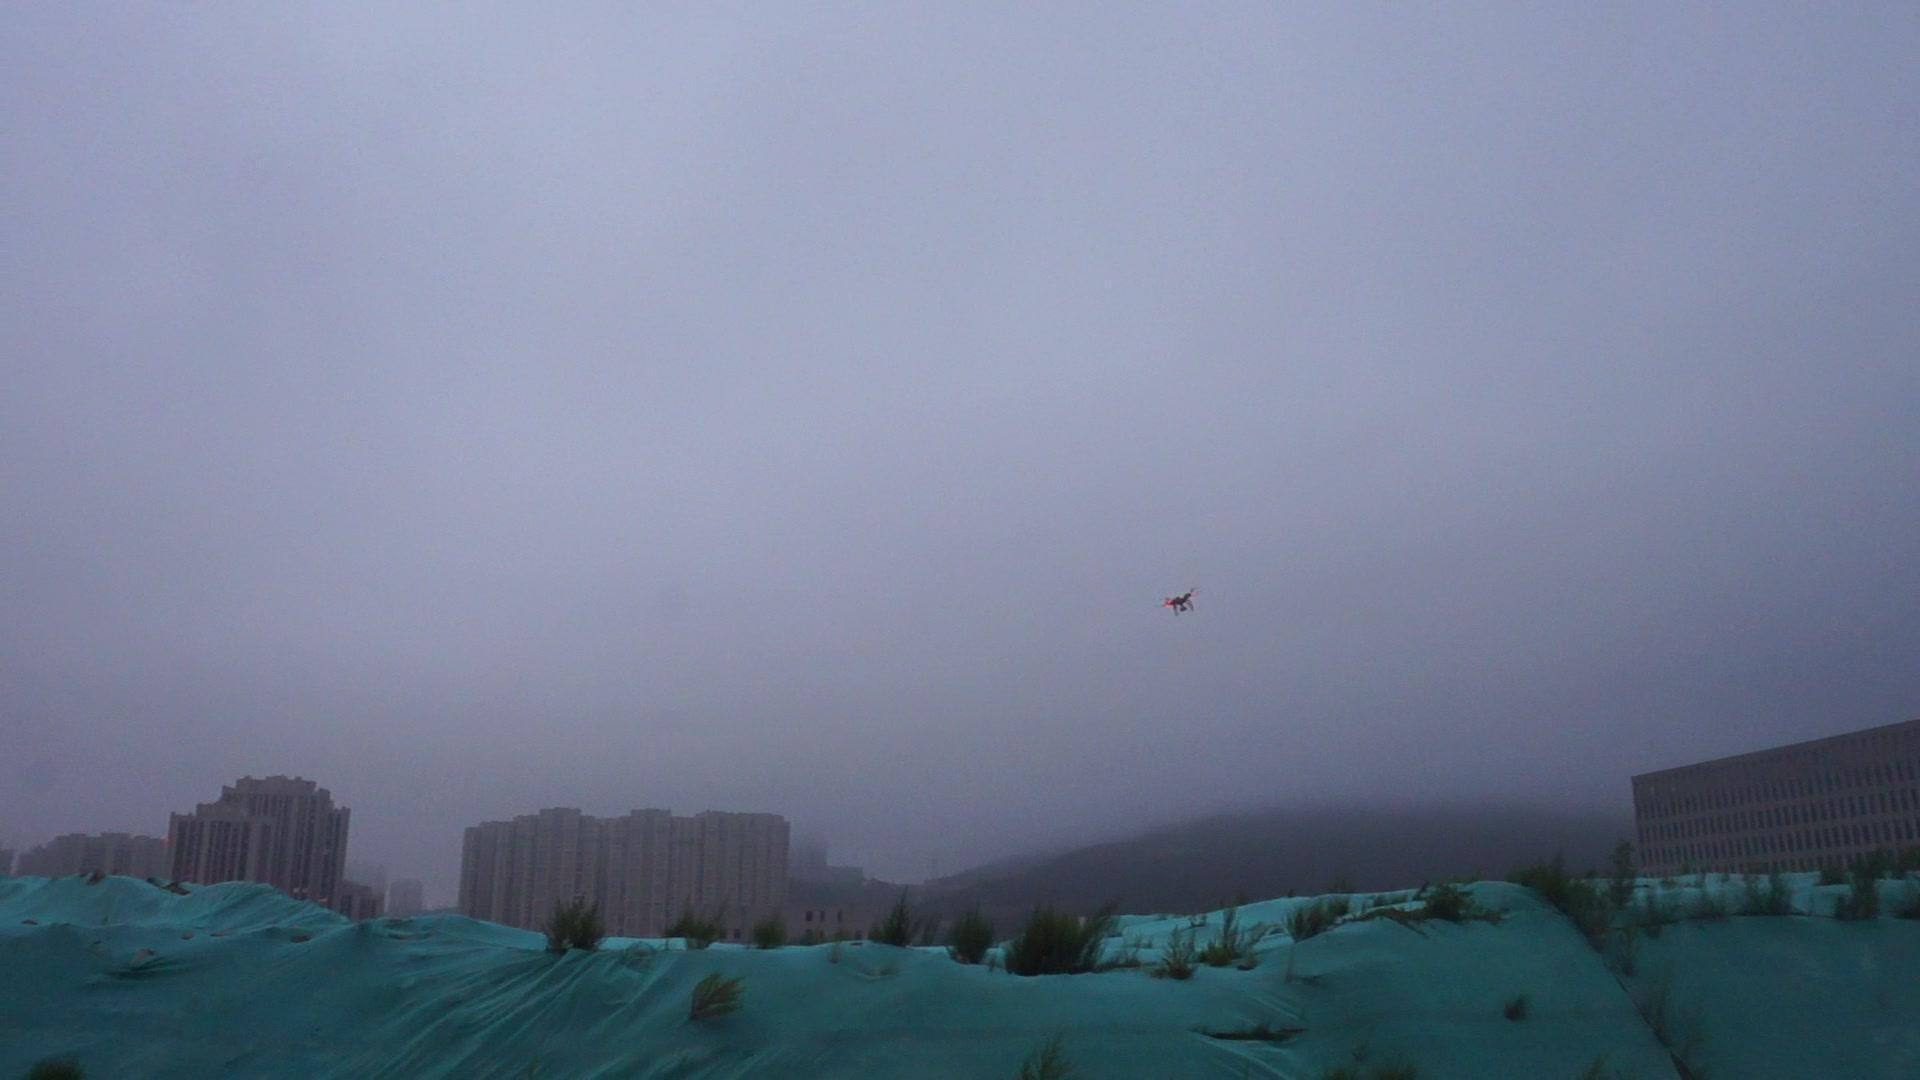UAV: (1160, 589, 1200, 617)
